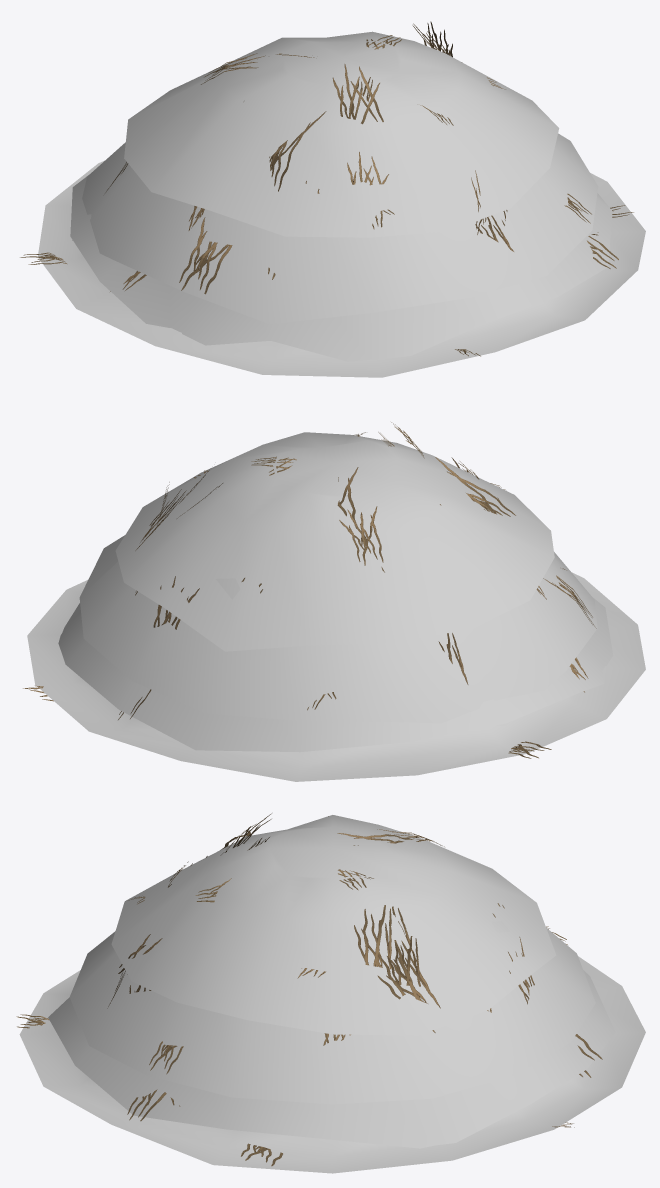
Rendered from hayMound_lod2.fbx.
3 views of the same model, one above another, from view 1: azimuth 30°, elevation 25°; view 2: azimuth 150°, elevation 25°; view 3: azimuth 270°, elevation 25° (orthographic). The views are drawn at different scales.
Visible parts, largest first — view 1: hayMound_lod2; view 2: hayMound_lod2; view 3: hayMound_lod2.
Boxes of the visible parts, <box> form: hayMound_lod2: <box>20,21,645,377</box>; hayMound_lod2: <box>23,422,645,781</box>; hayMound_lod2: <box>16,813,645,1173</box>.
Bounding box in the file's own units: 2.88 × 1.25 × 2.91.
